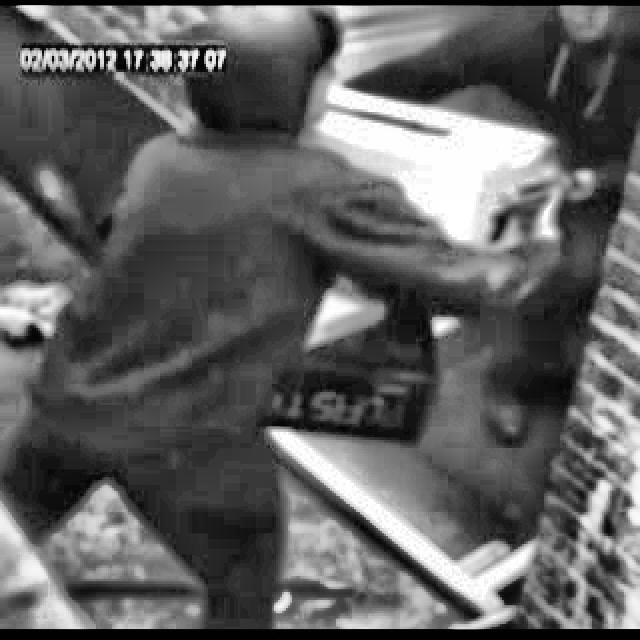burglary: (179, 6, 640, 451)
